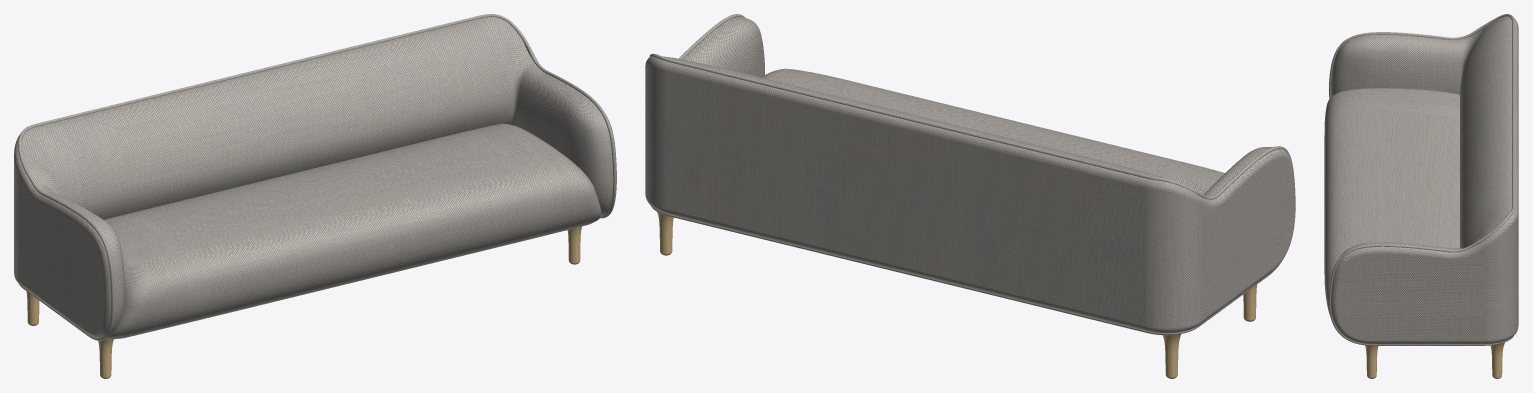
File: Furniture_Sofas-Armchairs_Icons-of-Denmark_Ekko-Sofa-3-seater-w-wood-legs.fbx
3 views of the same model, side by side, from view 1: azimuth 30°, elevation 25°; view 2: azimuth 150°, elevation 25°; view 3: azimuth 270°, elevation 25° (orthographic). The views are drawn at different scales.
Visible parts, largest first — view 1: L_ebbb3da5_19ce_4c20_ba54_09f4fc40c4bb_C1_I8, L_67760425_0568_45d8_bd66_a3893c2b91e4_C1_I2, L_c9d23203_b1ba_44af_b576_1a1d77e34094_C1_I6, L_a9cbcaf6_037f_465b_a2ed_db43251922f4_C1_I3, L_ca8e047e_e240_4365_b569_8508e904f7a7_C1_I7; view 2: L_c9d23203_b1ba_44af_b576_1a1d77e34094_C1_I6, L_67760425_0568_45d8_bd66_a3893c2b91e4_C1_I2, L_ebbb3da5_19ce_4c20_ba54_09f4fc40c4bb_C1_I8, L_a9cbcaf6_037f_465b_a2ed_db43251922f4_C1_I3, L_bdfd03ea_7408_4720_baba_abb2e58faf1b_C1_I5, L_22357c0e_bc7b_4273_a7e4_6971c77e7f1a_C1_I1; view 3: L_67760425_0568_45d8_bd66_a3893c2b91e4_C1_I2, L_c9d23203_b1ba_44af_b576_1a1d77e34094_C1_I6, L_ebbb3da5_19ce_4c20_ba54_09f4fc40c4bb_C1_I8, L_a9cbcaf6_037f_465b_a2ed_db43251922f4_C1_I3, L_22357c0e_bc7b_4273_a7e4_6971c77e7f1a_C1_I1, L_bc47790a_08ec_42db_b536_eba670ccc258_C1_I4.
Part boxes in pixels (x1,y1,x2,y2): L_ebbb3da5_19ce_4c20_ba54_09f4fc40c4bb_C1_I8: (21,17,613,335); L_67760425_0568_45d8_bd66_a3893c2b91e4_C1_I2: (104,123,600,339); L_c9d23203_b1ba_44af_b576_1a1d77e34094_C1_I6: (14,43,616,338); L_a9cbcaf6_037f_465b_a2ed_db43251922f4_C1_I3: (18,14,616,340); L_ca8e047e_e240_4365_b569_8508e904f7a7_C1_I7: (98,339,113,378); L_c9d23203_b1ba_44af_b576_1a1d77e34094_C1_I6: (645,56,1295,333); L_67760425_0568_45d8_bd66_a3893c2b91e4_C1_I2: (761,68,1224,194); L_ebbb3da5_19ce_4c20_ba54_09f4fc40c4bb_C1_I8: (663,16,1272,196); L_a9cbcaf6_037f_465b_a2ed_db43251922f4_C1_I3: (649,14,1293,335); L_bdfd03ea_7408_4720_baba_abb2e58faf1b_C1_I5: (1163,334,1181,378); L_22357c0e_bc7b_4273_a7e4_6971c77e7f1a_C1_I1: (657,212,673,255); L_67760425_0568_45d8_bd66_a3893c2b91e4_C1_I2: (1324,88,1459,316); L_c9d23203_b1ba_44af_b576_1a1d77e34094_C1_I6: (1331,18,1518,344); L_ebbb3da5_19ce_4c20_ba54_09f4fc40c4bb_C1_I8: (1330,16,1511,255); L_a9cbcaf6_037f_465b_a2ed_db43251922f4_C1_I3: (1328,14,1514,345); L_22357c0e_bc7b_4273_a7e4_6971c77e7f1a_C1_I1: (1490,342,1504,378); L_bc47790a_08ec_42db_b536_eba670ccc258_C1_I4: (1365,345,1378,378).
Bounding box in the file's own units: 2040 × 774 × 728.
Materials: 2 (2 with a texture image).
